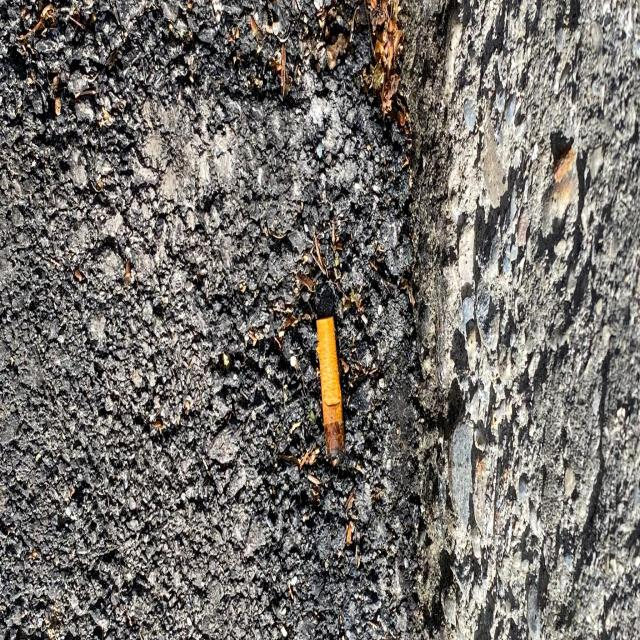other waste: (316, 314, 346, 469)
